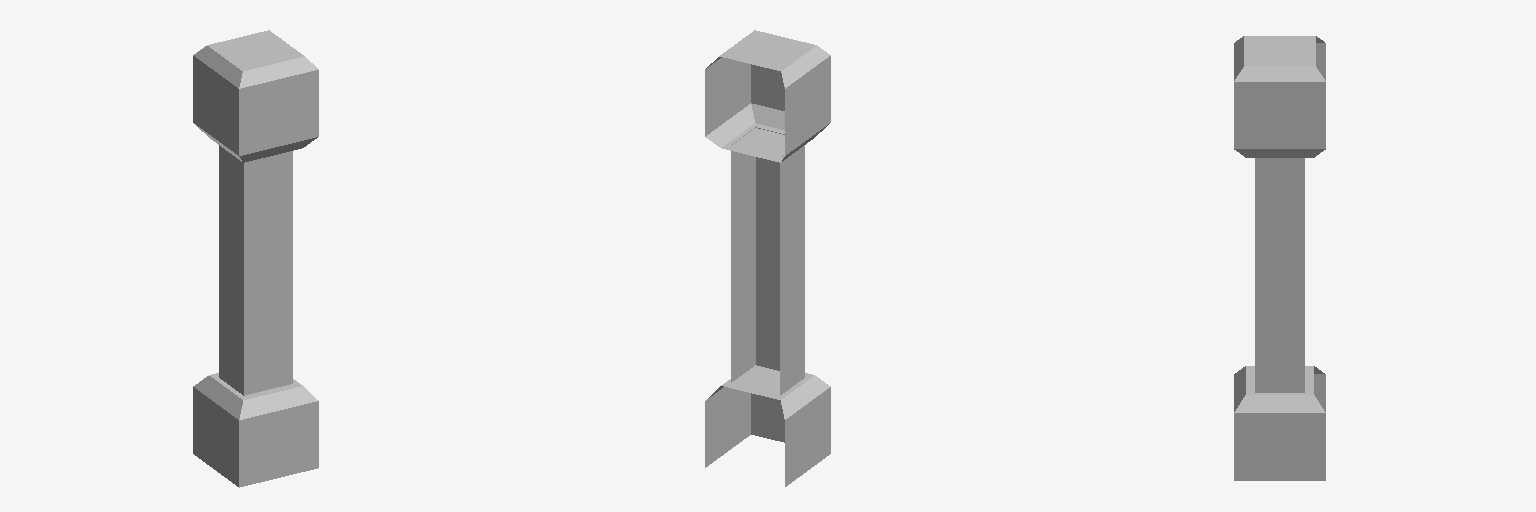
File: Column_04.obj
3 renders of one model, left to right at view 1: azimuth 30°, elevation 25°; view 2: azimuth 150°, elevation 25°; view 3: azimuth 270°, elevation 25°, orthographic.
Visible parts, largest first — view 1: column_04_Cube.009; view 2: column_04_Cube.009; view 3: column_04_Cube.009.
Part boxes in pixels (x1,y1,x2,y2): column_04_Cube.009: (193, 30, 318, 487); column_04_Cube.009: (705, 30, 830, 486); column_04_Cube.009: (1234, 36, 1325, 480).
Size of the model in its own units: 0.4201 by 2.07 by 0.4201.